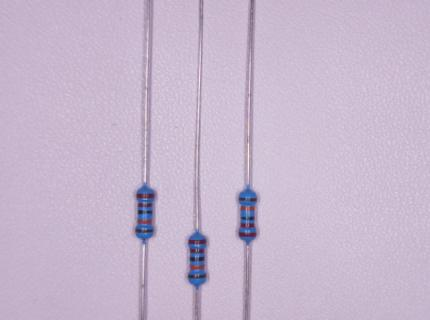Black band: (190, 257, 205, 262), (138, 211, 153, 216), (241, 216, 254, 220)
Brown band: (188, 274, 207, 279), (135, 228, 153, 233), (239, 198, 257, 201)
Orange band: (191, 264, 205, 270), (240, 206, 255, 211), (138, 219, 152, 223)
Red band: (188, 239, 207, 244), (137, 193, 154, 198), (239, 232, 256, 237), (190, 248, 204, 254), (138, 203, 152, 207), (241, 223, 255, 227)
